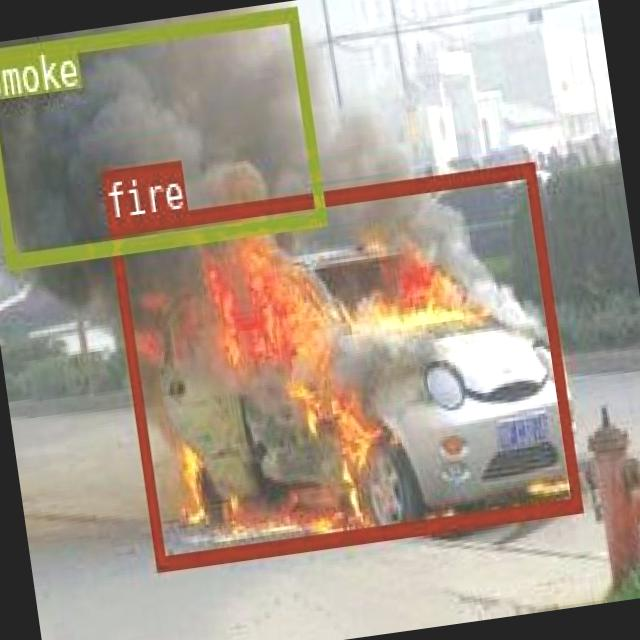fire: (107, 161, 580, 570)
smoke: (0, 4, 325, 266)
